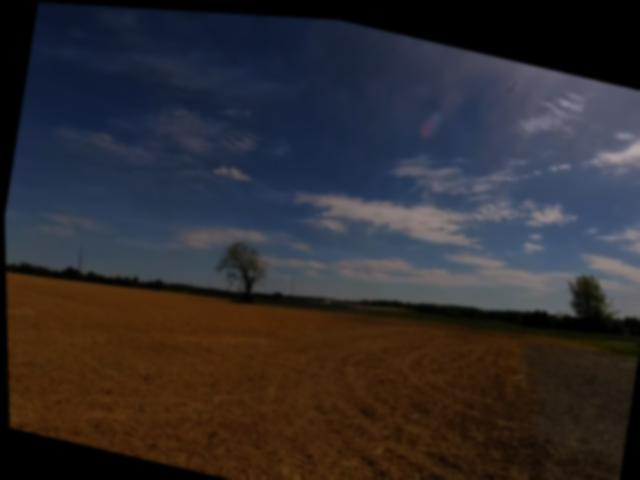plane: (504, 70, 519, 89)
